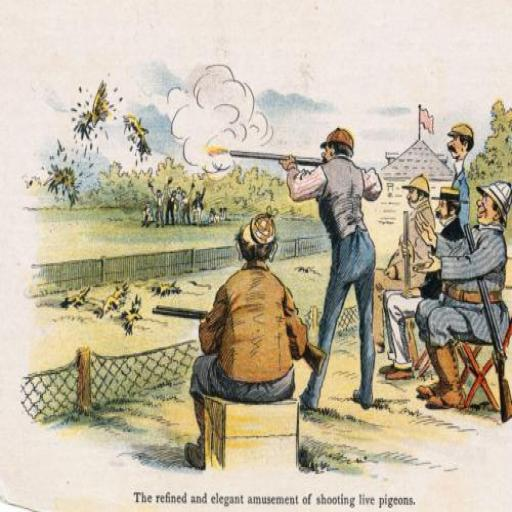shooting: (181, 211, 326, 473), (279, 125, 384, 415), (412, 177, 511, 415), (378, 172, 441, 386)
